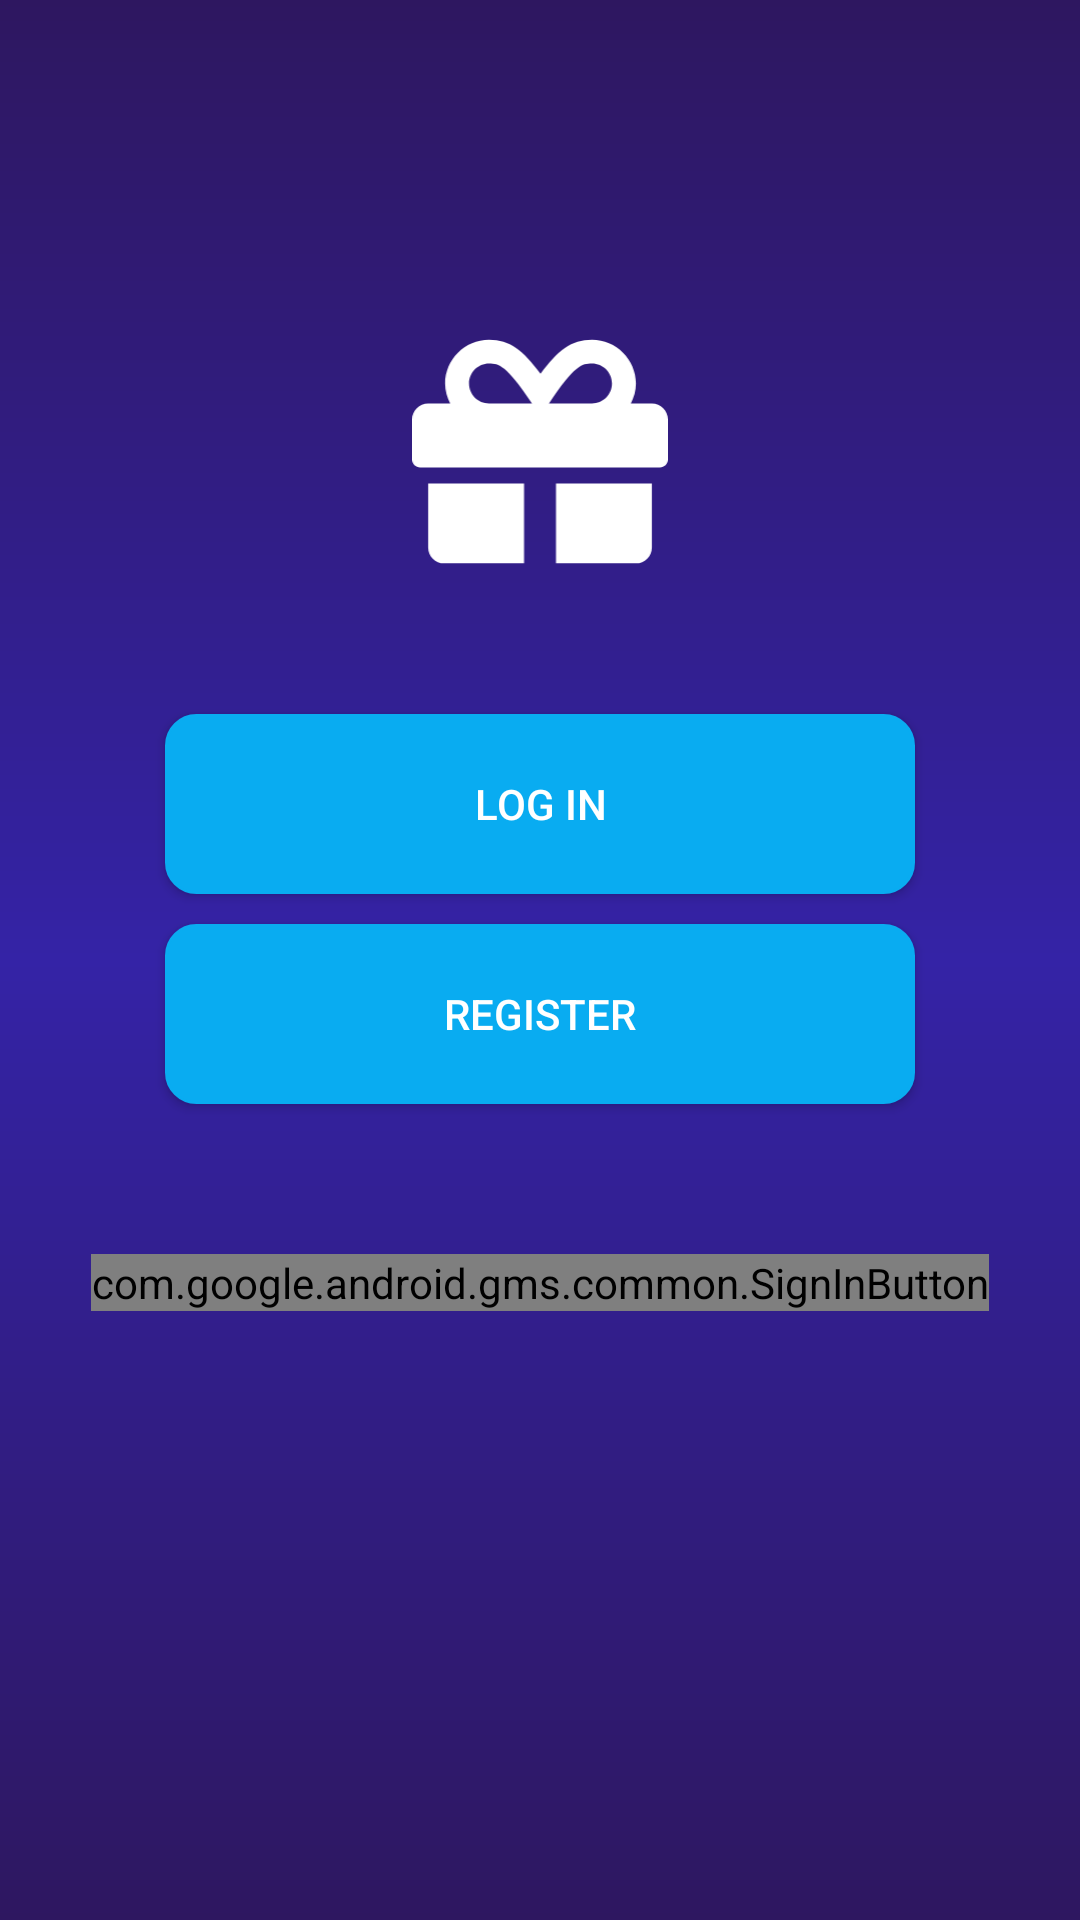

Screen size 1080 × 1920. Icon name, then its box in pixels as (x1, y1, x2, y2):
gift: (412, 339, 668, 564)
